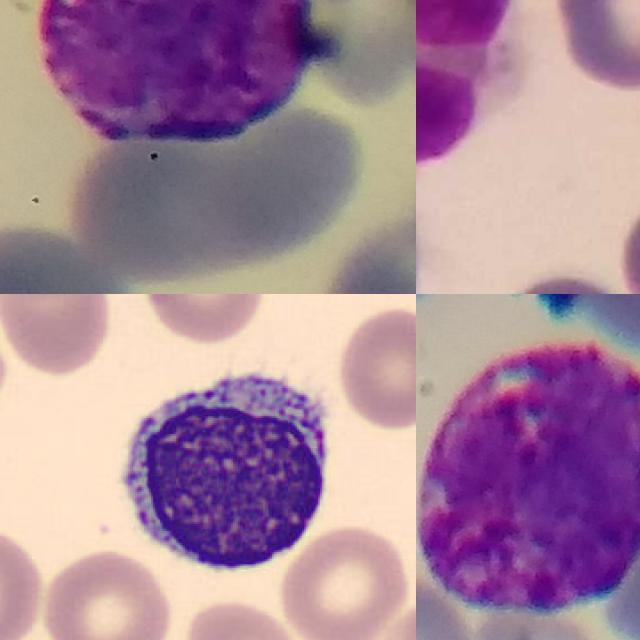Basophil: (419, 340, 640, 616), (38, 0, 313, 144)
Eosinophil: (416, 0, 537, 166)
Lymphocyte: (103, 353, 341, 580)
RBC: (277, 520, 414, 640), (37, 545, 174, 640), (330, 301, 416, 435), (0, 294, 117, 380), (136, 294, 270, 349), (0, 520, 48, 640)
